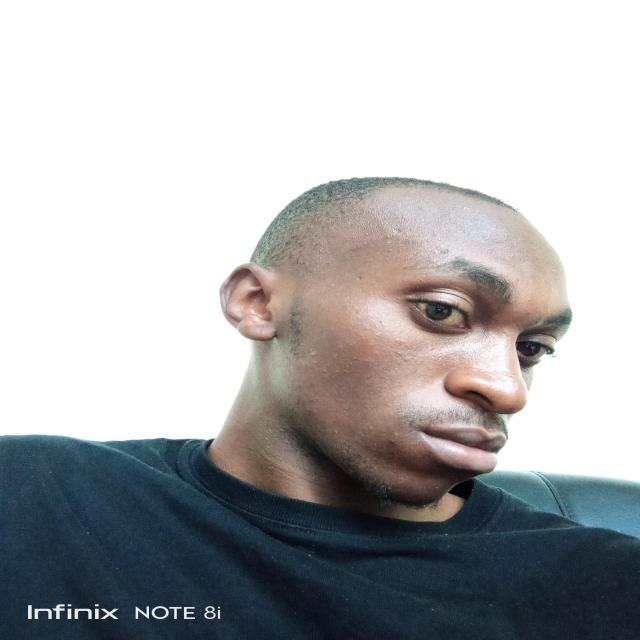Acne: (396, 350, 408, 360), (345, 322, 355, 331), (380, 323, 388, 327), (389, 440, 396, 444), (352, 357, 358, 361), (322, 368, 326, 372), (343, 369, 347, 373)
Englarged-Pores: (418, 340, 466, 360)
